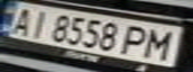5: (81, 17, 103, 51), (66, 15, 87, 47)
8: (45, 11, 72, 44), (100, 19, 124, 53)
A: (3, 5, 39, 35)
I: (24, 7, 54, 39)
M: (139, 26, 184, 61)
P: (118, 23, 154, 57)
